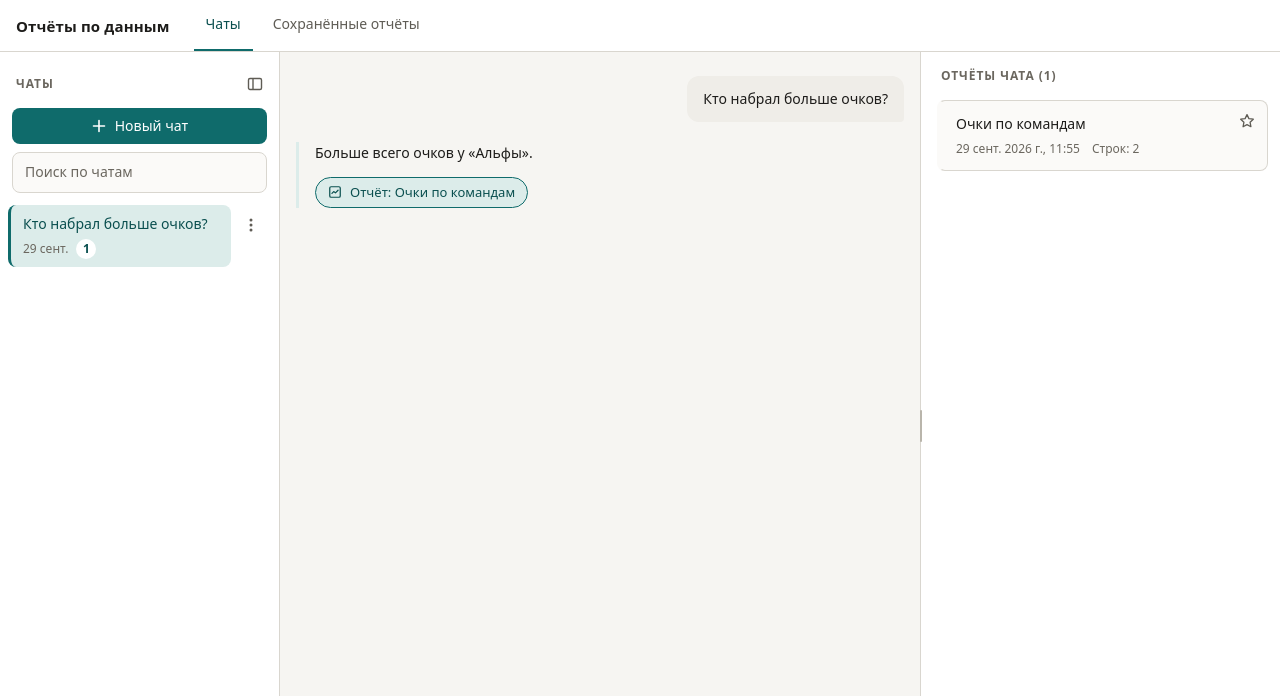
/chats/:chatId route › opens the report in the panel when its chip in the message is clicked
Expected: the button "К списку" is not shown
Click the button "Отчёт: Очки по командам".
click(422, 192)  # box [315,177,528,208]
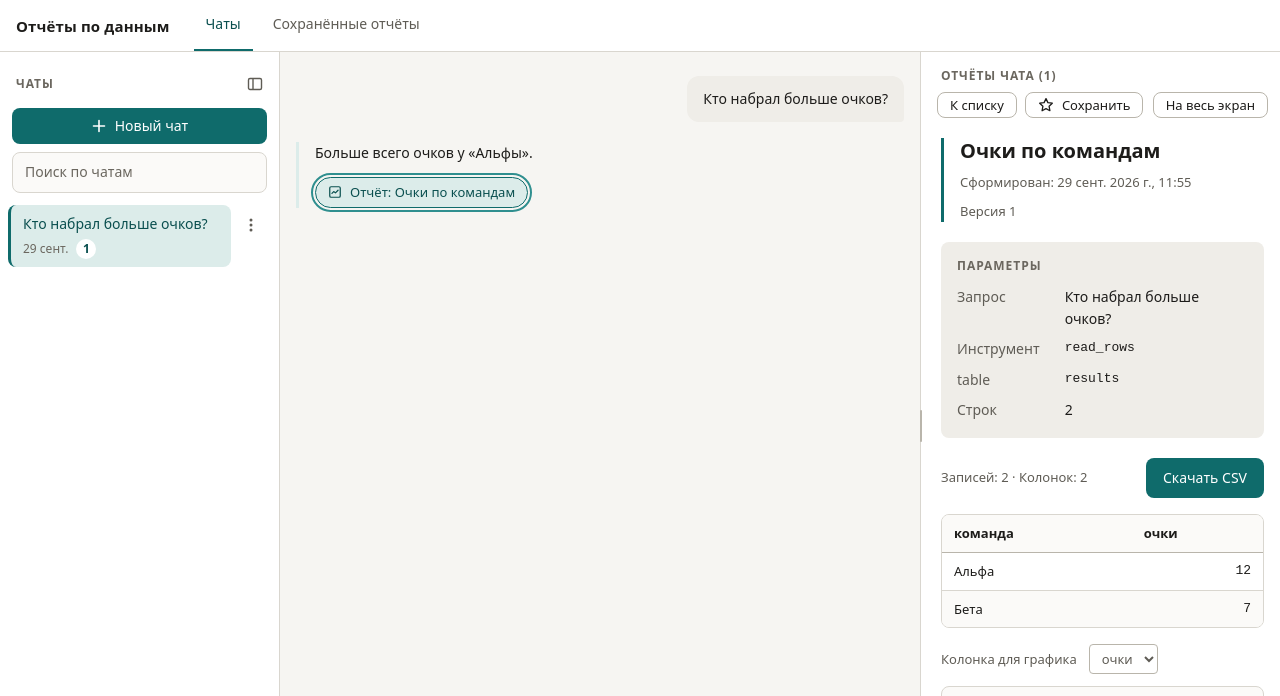
Expected: the heading "Очки по командам" is shown, [960,138,1160,164]
Result: the button "К списку" is shown at [937,92,1017,118]
Result: the cell "Альфа" is shown at [942,553,1132,591]
